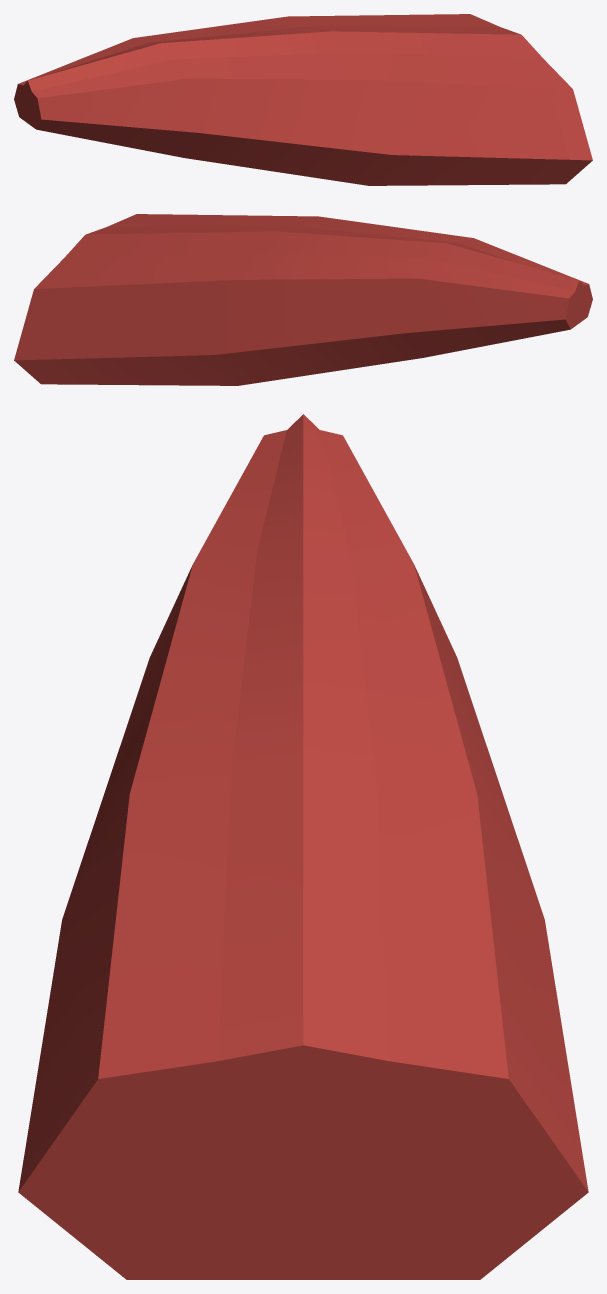
File: sport_lod2.glb
The picture shows the model from 3 angles, top to bottom: view 1: azimuth 30°, elevation 25°; view 2: azimuth 150°, elevation 25°; view 3: azimuth 270°, elevation 25°; orthographic projection. The views are drawn at different scales.
Parts seen in each view (by area): view 1: sport_lod2; view 2: sport_lod2; view 3: sport_lod2.
Boxes of the visible parts, bbox=[...] form: sport_lod2: bbox=[14, 14, 592, 185]; sport_lod2: bbox=[14, 214, 592, 385]; sport_lod2: bbox=[18, 414, 588, 1279].
Bounding box in the file's own units: 0.52 × 0.198 × 0.26.
